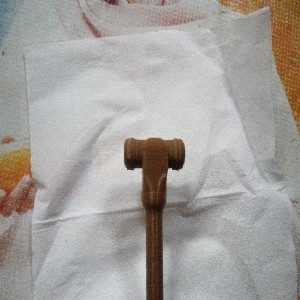palu: (123, 136, 185, 300)
